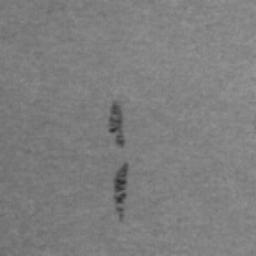Secondary rust skin: (114, 163, 128, 223), (108, 100, 125, 146)
